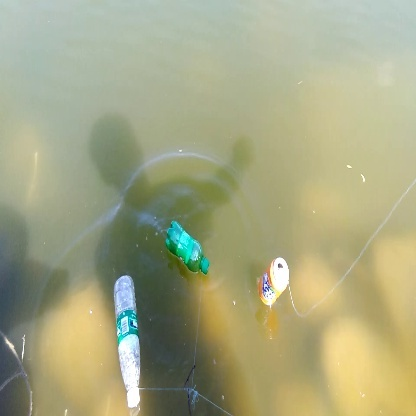bottle: (162, 212, 212, 276)
